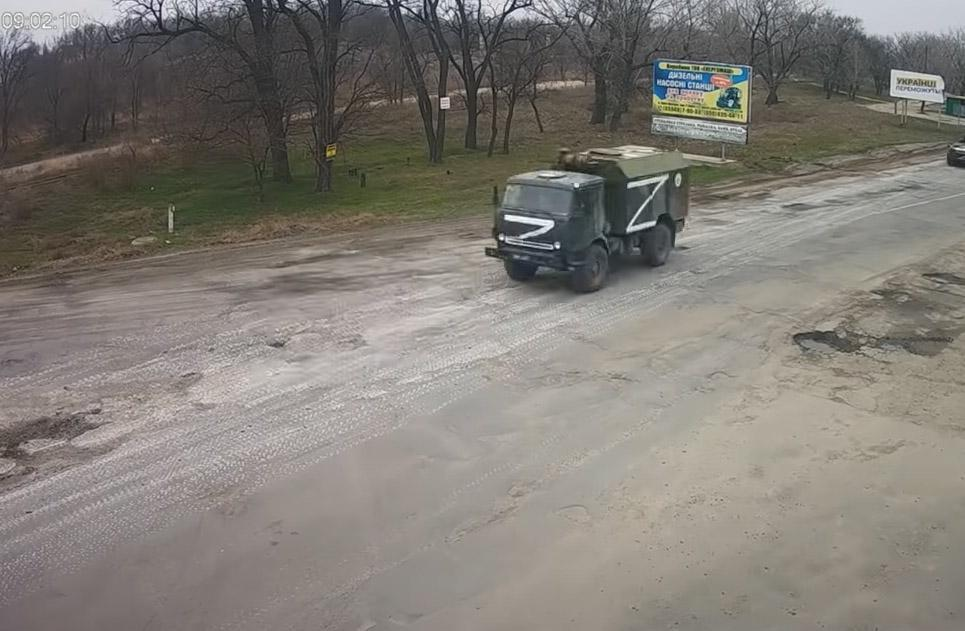truck: (483, 139, 695, 302)
